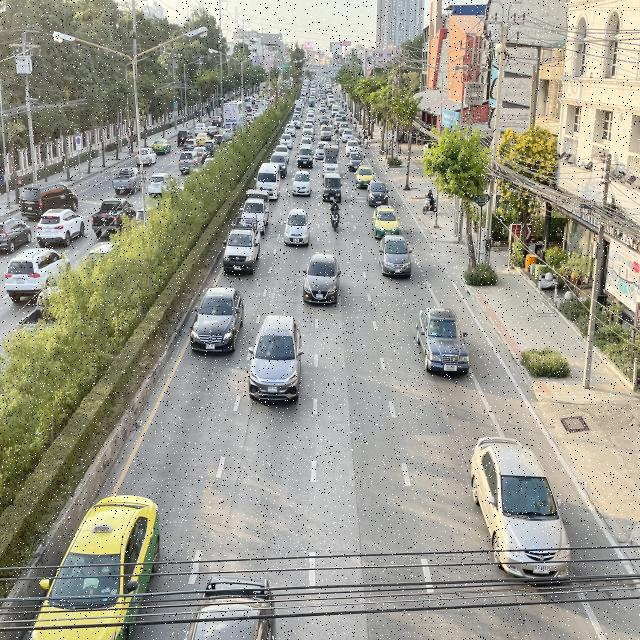bike: (328, 194, 341, 234), (421, 189, 436, 215)
car: (28, 492, 160, 640), (468, 430, 580, 588), (180, 576, 276, 640), (248, 311, 304, 409), (412, 302, 475, 382), (190, 286, 247, 358), (222, 216, 260, 277), (302, 252, 342, 304), (378, 233, 412, 278), (282, 206, 310, 248), (254, 162, 279, 203), (372, 204, 400, 239), (320, 174, 348, 203), (291, 169, 313, 198), (367, 179, 388, 206), (356, 163, 376, 190)
truck: (239, 188, 268, 234)
